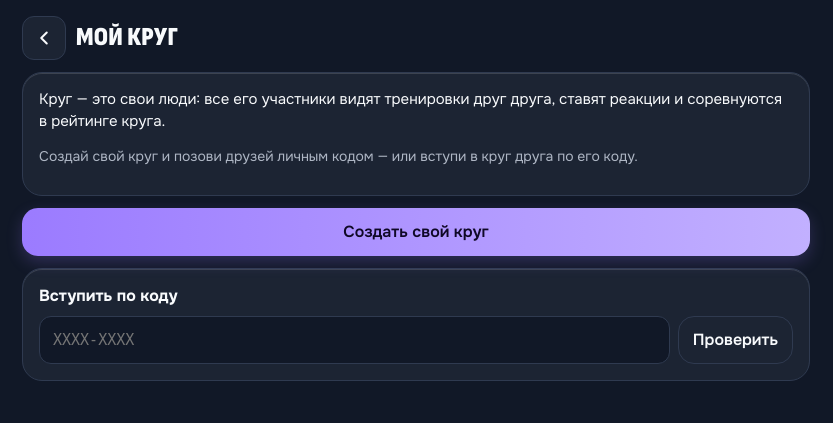
CircleScreen › мусорный код — отказ без запроса
Type "abc" into the field labelled "Вступить по коду".
click(354, 340); type("abc")  # box [39,316,670,364]
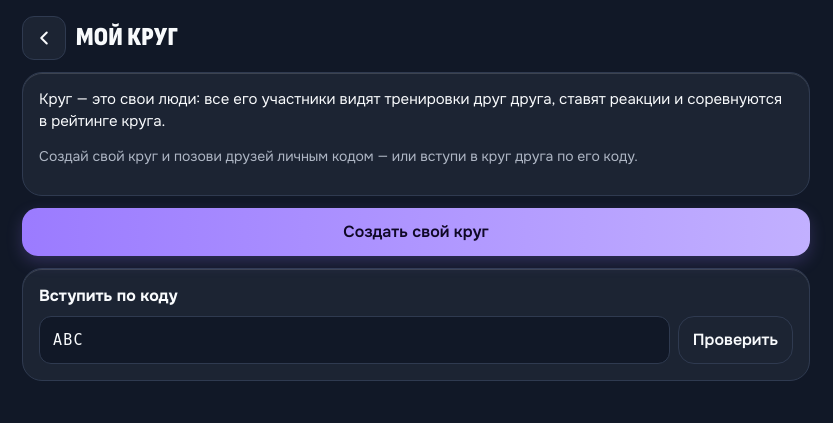
Click the button "Проверить".
click(735, 340)  # box [678,316,793,364]
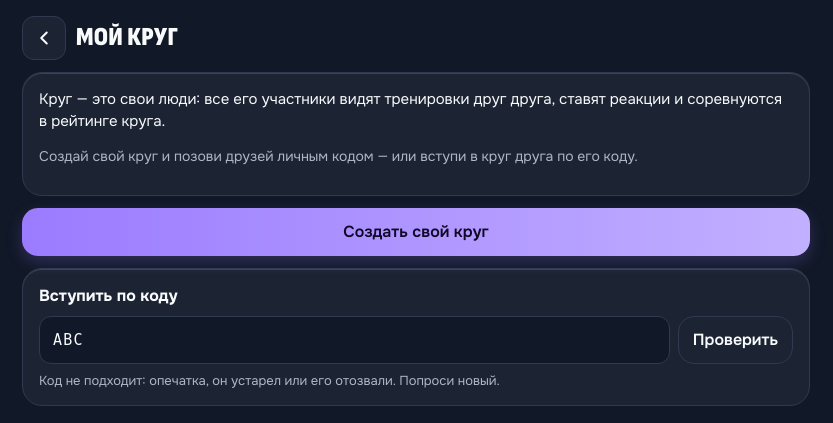
Expected: the text "Код не подходит: опечатка, он устарел или его отозвали. Попроси новый." is shown, [39,372,500,388]
